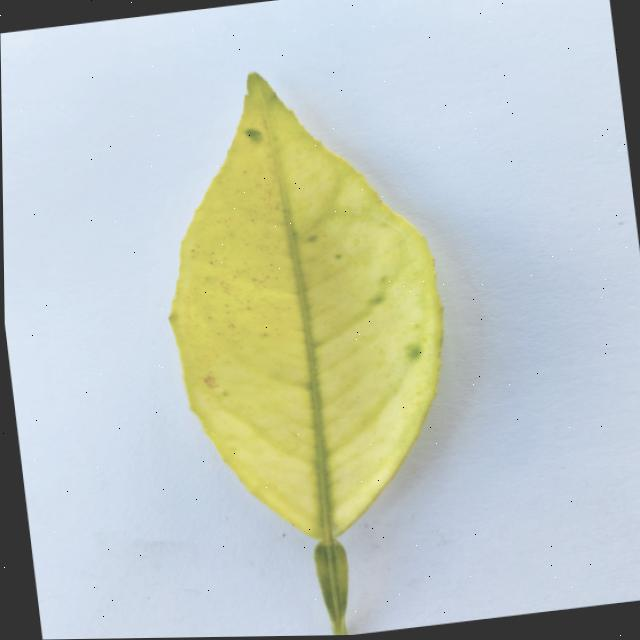greening: (168, 72, 440, 635)
